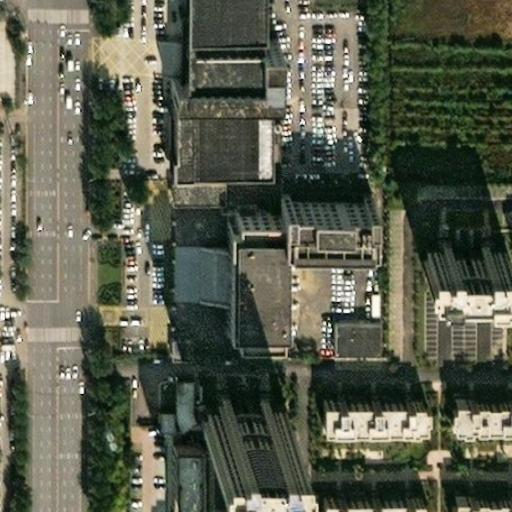building: (179, 73, 262, 150), (218, 194, 269, 313), (148, 371, 189, 512), (179, 21, 266, 73), (273, 184, 367, 225), (185, 383, 273, 418), (404, 231, 494, 265), (309, 478, 411, 503), (310, 381, 408, 407), (437, 477, 512, 505), (437, 380, 512, 408), (88, 224, 114, 294), (325, 308, 372, 344), (193, 238, 218, 292), (156, 170, 216, 190), (141, 190, 163, 227), (88, 166, 106, 208), (434, 196, 474, 212), (478, 198, 512, 216), (161, 328, 180, 346)
